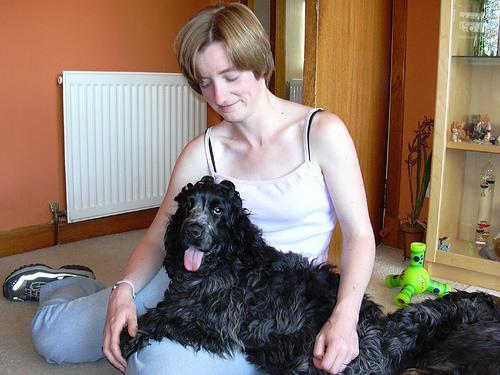adult_dog: (163, 176, 248, 277)
